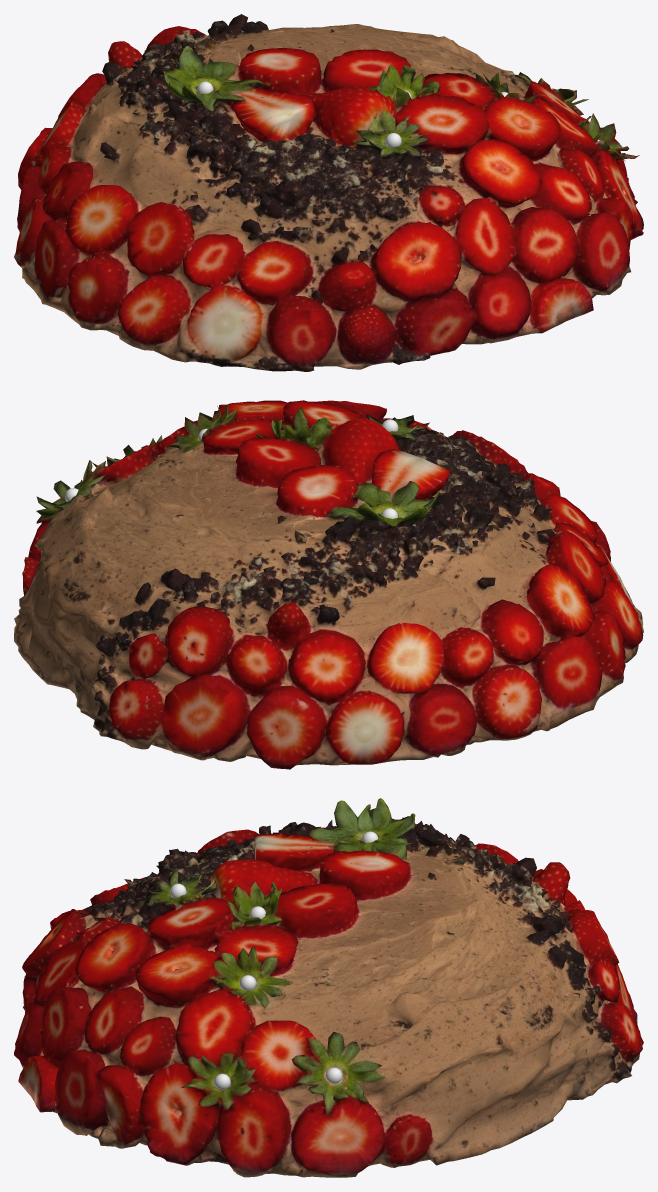
The model's file is bolo.glb.
The picture shows the model from 3 angles, top to bottom: view 1: azimuth 30°, elevation 25°; view 2: azimuth 150°, elevation 25°; view 3: azimuth 270°, elevation 25°; orthographic projection. The views are drawn at different scales.
Visible parts, largest first — view 1: strawberry_chocolate_cake; view 2: strawberry_chocolate_cake; view 3: strawberry_chocolate_cake.
Boxes of the visible parts, box(x1,y1,x2,y2) form: strawberry_chocolate_cake: box(14, 14, 643, 371); strawberry_chocolate_cake: box(14, 400, 643, 769); strawberry_chocolate_cake: box(14, 798, 643, 1177).
Size of the model in its own units: 0.2443 by 0.0792 by 0.2403.
1 material, 1 textured.
